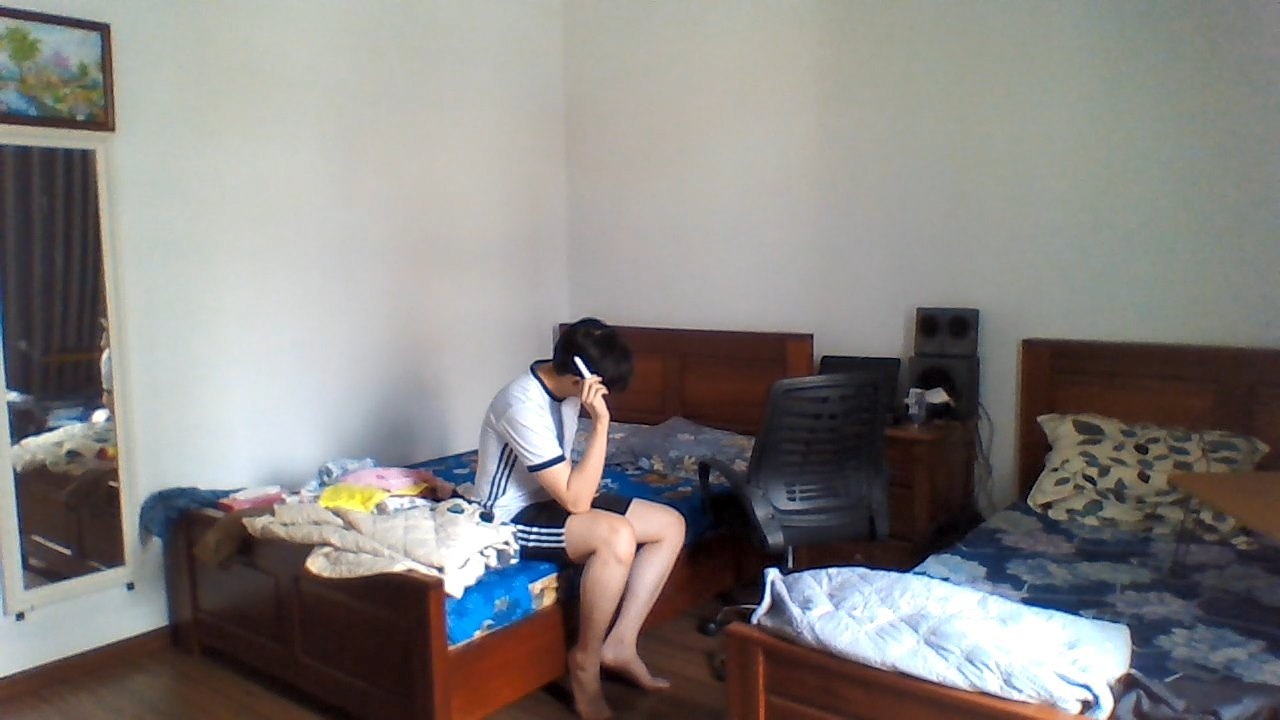cigarette: (573, 357, 591, 379)
person: (463, 303, 689, 720)
